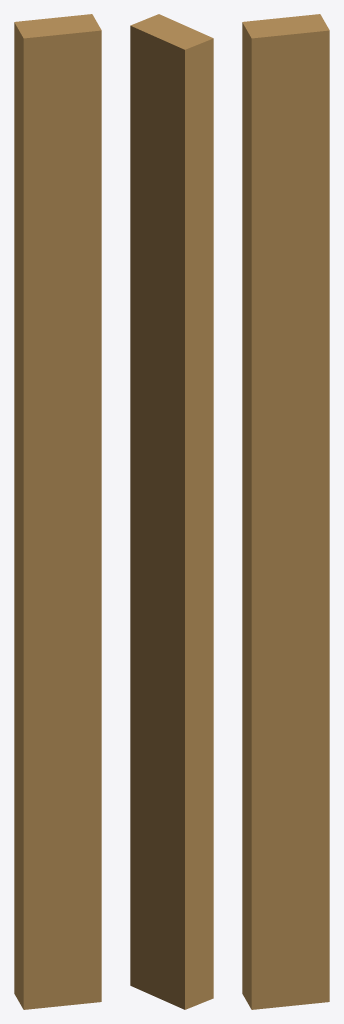
The picture shows the model from 3 angles, left to right: view 1: azimuth 90°, elevation 25°; view 2: azimuth 210°, elevation 25°; view 3: azimuth 270°, elevation 25°; orthographic projection.
Parts seen in each view (by area): view 1: GAP-11-R-jack_stud-p3; view 2: GAP-11-R-jack_stud-p3; view 3: GAP-11-R-jack_stud-p3.
Part boxes in pixels (x1,y1,x2,y2): GAP-11-R-jack_stud-p3: [14, 14, 101, 1009]; GAP-11-R-jack_stud-p3: [130, 14, 213, 1009]; GAP-11-R-jack_stud-p3: [242, 14, 329, 1009].
Bounding box in the file's own units: 0.0649 × 1.2 × 0.0981.
